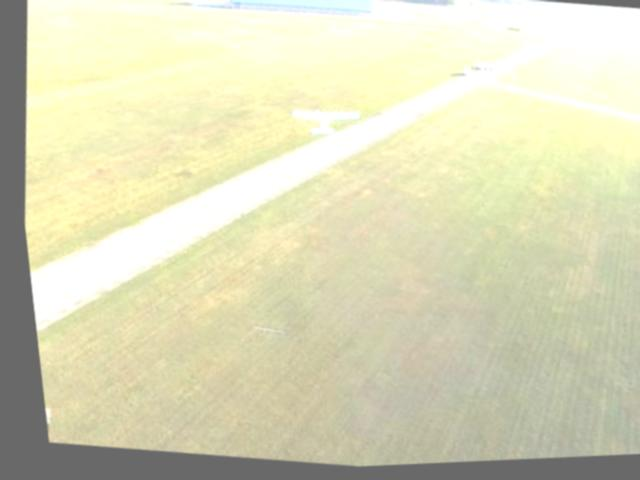uav: (283, 96, 362, 144)
